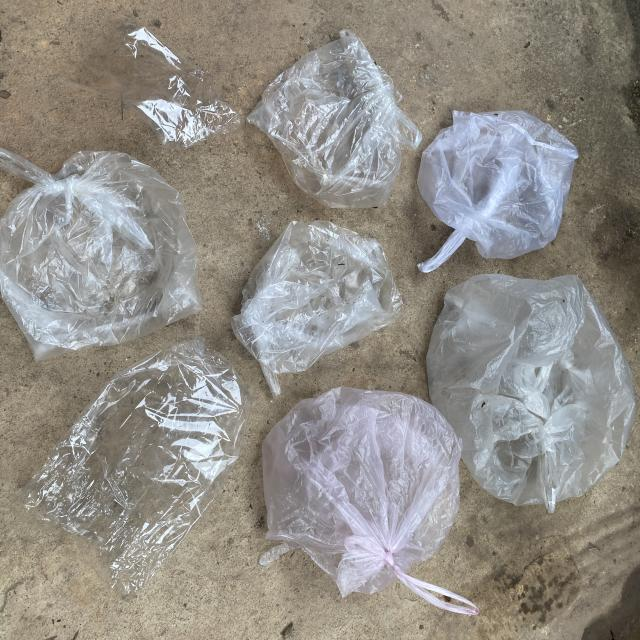Single-layer Plastic: (22, 339, 251, 596), (260, 388, 479, 615), (426, 275, 635, 512), (0, 149, 202, 360), (248, 29, 421, 209), (231, 221, 402, 395), (64, 18, 242, 148)
